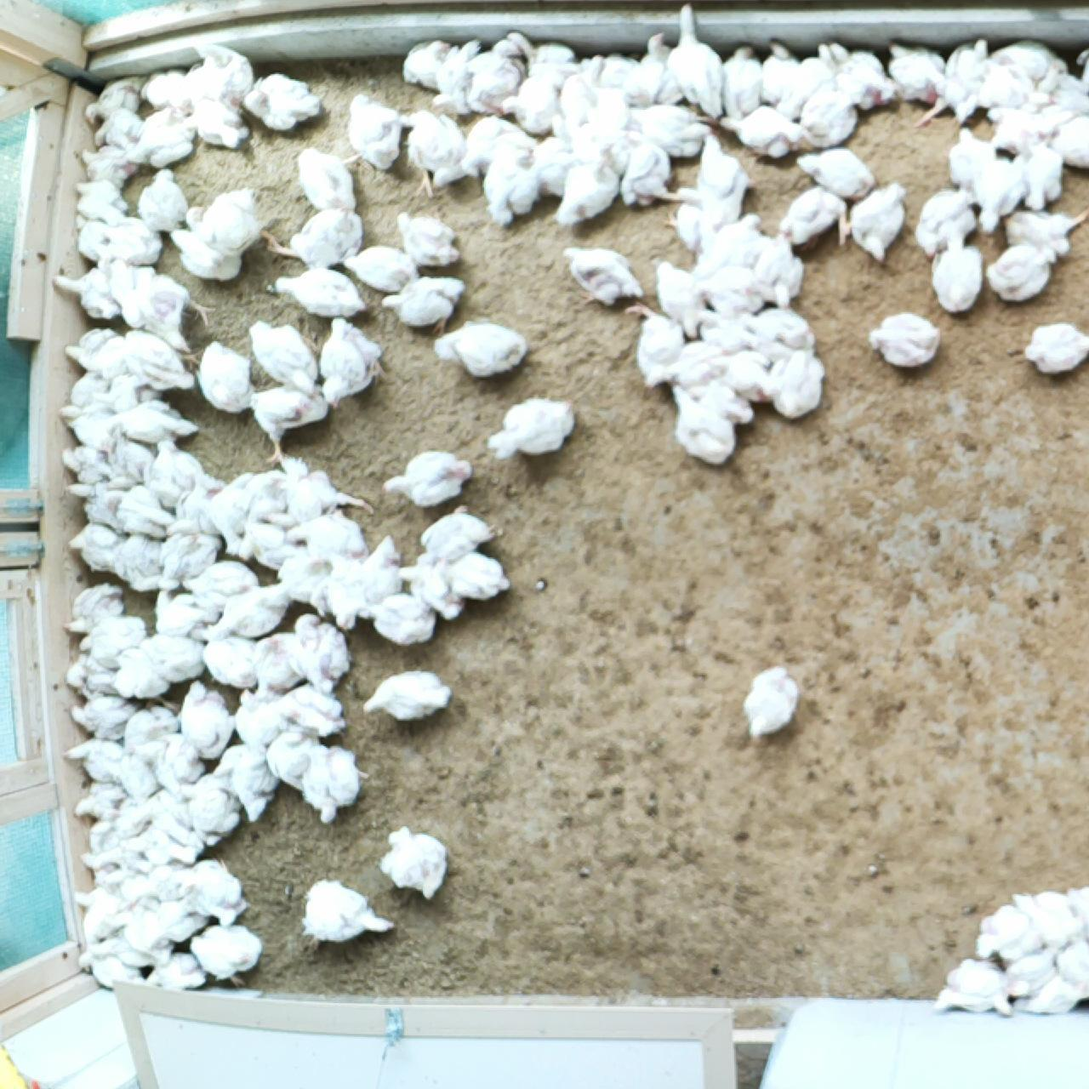chicken: (115, 269, 201, 352), (202, 573, 299, 641), (249, 384, 328, 465), (668, 3, 725, 114), (316, 316, 384, 407), (739, 277, 819, 353), (305, 880, 395, 946), (264, 210, 366, 267), (562, 245, 648, 311), (402, 110, 468, 196), (246, 318, 316, 398), (487, 398, 576, 459), (433, 320, 527, 377), (288, 463, 373, 524), (415, 505, 497, 568), (225, 742, 289, 822), (173, 860, 248, 927), (384, 452, 470, 510), (550, 157, 619, 229), (339, 536, 408, 607), (189, 190, 263, 254), (983, 62, 1058, 125), (117, 332, 197, 391), (673, 386, 733, 464), (783, 44, 847, 117), (365, 670, 449, 725), (164, 225, 241, 285), (1006, 208, 1087, 265), (397, 552, 465, 619), (465, 113, 539, 174), (380, 828, 447, 895), (305, 745, 361, 825), (346, 94, 409, 165), (985, 242, 1056, 304), (942, 37, 995, 120), (299, 511, 371, 572), (248, 72, 321, 132), (850, 184, 906, 262), (653, 259, 709, 337), (181, 682, 237, 760), (274, 267, 363, 316), (710, 350, 779, 413), (119, 389, 196, 445), (51, 263, 124, 322), (722, 108, 806, 159), (383, 277, 467, 328), (294, 614, 351, 689), (701, 134, 753, 216), (864, 312, 940, 368), (242, 516, 314, 575), (612, 133, 670, 206), (197, 927, 265, 989), (798, 147, 884, 196), (627, 105, 709, 156), (706, 212, 769, 278), (105, 484, 183, 537), (488, 135, 534, 224), (193, 628, 259, 690), (745, 665, 801, 737), (622, 33, 678, 105), (182, 682, 233, 760), (207, 470, 256, 551), (668, 190, 729, 255), (74, 829, 134, 895), (914, 189, 971, 258), (228, 465, 288, 530), (188, 562, 257, 618), (359, 595, 436, 645), (830, 43, 892, 105), (431, 553, 511, 601), (467, 39, 518, 114), (293, 148, 356, 208), (774, 347, 825, 420), (114, 537, 187, 588), (886, 40, 947, 101), (190, 43, 251, 104), (395, 209, 460, 266), (973, 154, 1023, 228), (342, 246, 420, 293), (130, 109, 193, 167), (1019, 886, 1083, 943), (753, 232, 804, 303), (630, 307, 676, 385), (544, 121, 618, 169), (933, 243, 983, 314), (785, 186, 847, 243), (267, 724, 316, 794), (286, 683, 348, 738), (122, 789, 196, 835), (804, 84, 859, 145), (571, 50, 647, 94), (63, 328, 134, 375), (139, 169, 191, 233), (977, 904, 1035, 961), (670, 340, 730, 395), (67, 477, 128, 531), (704, 265, 768, 315), (136, 739, 204, 786), (145, 584, 201, 641), (161, 535, 220, 589), (66, 522, 126, 575), (85, 71, 146, 123), (583, 88, 633, 151), (503, 76, 556, 135), (66, 693, 132, 740), (432, 40, 474, 113), (695, 312, 755, 363), (65, 581, 127, 630), (151, 441, 199, 504), (686, 382, 756, 425), (1025, 324, 1089, 371), (279, 554, 339, 604), (937, 958, 1020, 994), (53, 440, 122, 483), (1023, 134, 1063, 208), (75, 147, 147, 188), (1022, 972, 1089, 1016), (191, 788, 237, 852), (137, 630, 199, 677), (73, 784, 132, 833), (934, 981, 1012, 1018), (724, 47, 764, 119), (105, 653, 166, 700), (120, 830, 204, 864), (237, 690, 286, 748), (142, 950, 205, 995), (77, 949, 146, 990), (127, 863, 197, 903), (950, 127, 995, 189), (758, 42, 803, 104), (101, 220, 163, 265), (1004, 943, 1063, 990), (63, 741, 127, 784), (66, 653, 127, 698), (988, 108, 1058, 147), (192, 108, 255, 151), (991, 46, 1064, 83), (67, 369, 123, 417), (84, 615, 145, 659), (506, 31, 575, 69), (59, 405, 121, 447), (85, 937, 158, 972), (140, 902, 202, 943), (255, 636, 301, 691), (67, 178, 125, 221), (1046, 70, 1089, 127), (402, 37, 448, 88), (532, 137, 573, 194), (111, 915, 174, 952), (556, 73, 599, 126), (89, 110, 139, 155), (74, 218, 121, 265), (144, 69, 194, 111), (1055, 943, 1089, 1001), (127, 706, 175, 747), (77, 892, 131, 927), (113, 876, 172, 908), (1056, 115, 1087, 174), (111, 436, 148, 481)
